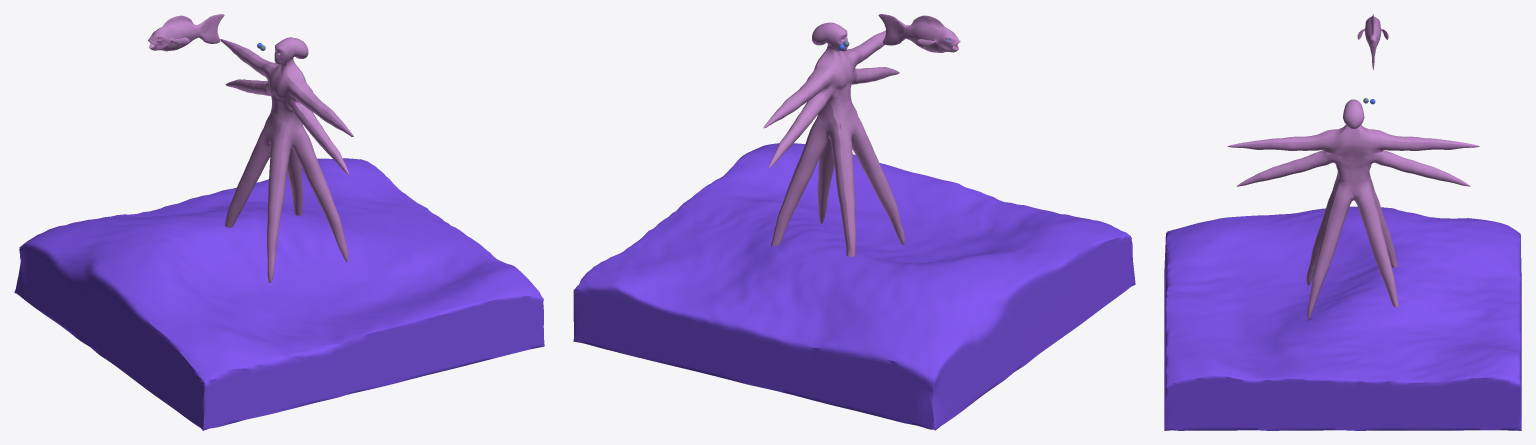
3 renders of one model, left to right at view 1: azimuth 30°, elevation 25°; view 2: azimuth 150°, elevation 25°; view 3: azimuth 270°, elevation 25°, orthographic. The views are drawn at different scales.
Visible parts, largest first — view 1: polySurface4_rsMaterial6_0, split_parent_1; view 2: polySurface4_rsMaterial6_0, split_parent_1; view 3: polySurface4_rsMaterial6_0, split_parent_1.
Part boxes in pixels (x1,y1,x2,y2): polySurface4_rsMaterial6_0: [14, 158, 544, 430]; split_parent_1: [148, 14, 353, 282]; polySurface4_rsMaterial6_0: [573, 143, 1135, 430]; split_parent_1: [763, 14, 960, 256]; polySurface4_rsMaterial6_0: [1164, 206, 1521, 430]; split_parent_1: [1227, 14, 1479, 319].
Size of the model in its own units: 1 by 0.8763 by 0.9571.
